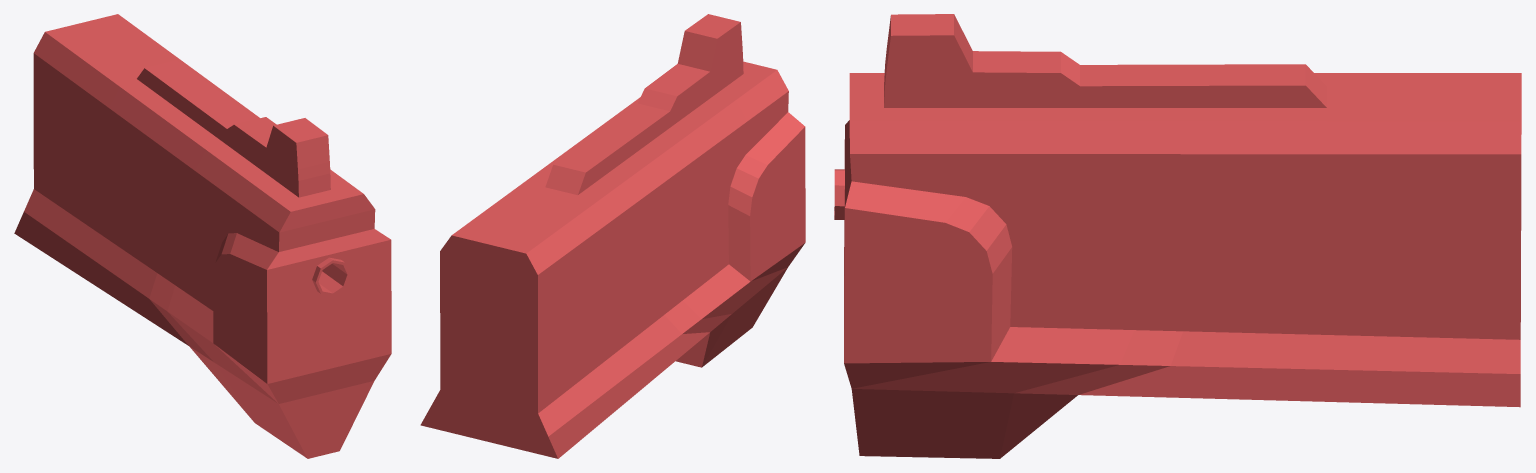
File: Barrel_Torgue.glb
3 views of the same model, side by side, from view 1: azimuth 30°, elevation 25°; view 2: azimuth 150°, elevation 25°; view 3: azimuth 270°, elevation 25° (orthographic). The views are drawn at different scales.
Parts seen in each view (by area): view 1: Barrel.Torgue; view 2: Barrel.Torgue; view 3: Barrel.Torgue.
Part boxes in pixels (x1=…): Barrel.Torgue: x1=14, y1=14, x2=391, y2=458; Barrel.Torgue: x1=420, y1=14, x2=805, y2=458; Barrel.Torgue: x1=834, y1=14, x2=1521, y2=458.
Bounding box in the file's own units: 0.1743 × 0.3815 × 0.5621.
